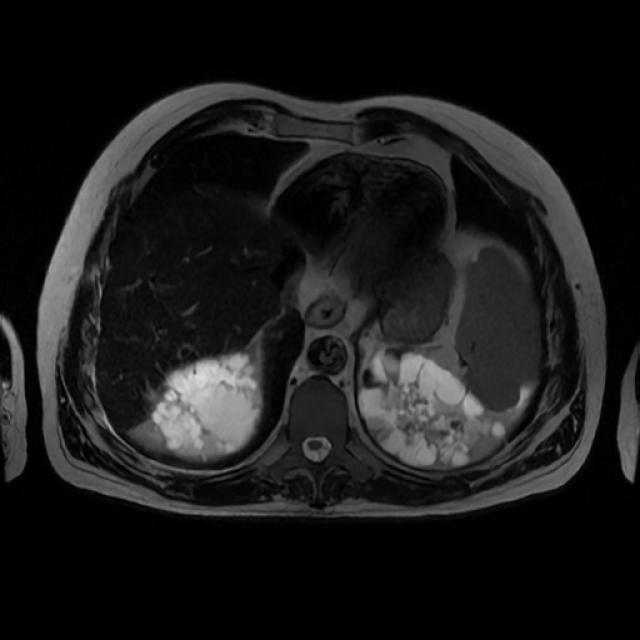sag: (151, 353, 260, 458)
sol: (358, 348, 509, 468)
